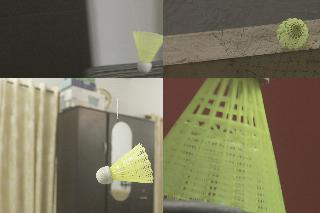shuttlecock: (163, 78, 286, 212), (96, 142, 152, 184), (131, 31, 162, 74), (276, 18, 308, 48)
